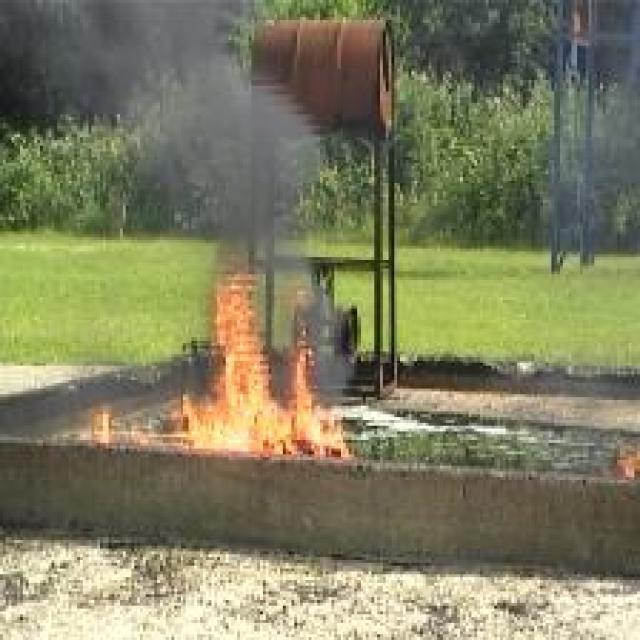Fire: (98, 263, 353, 463)
